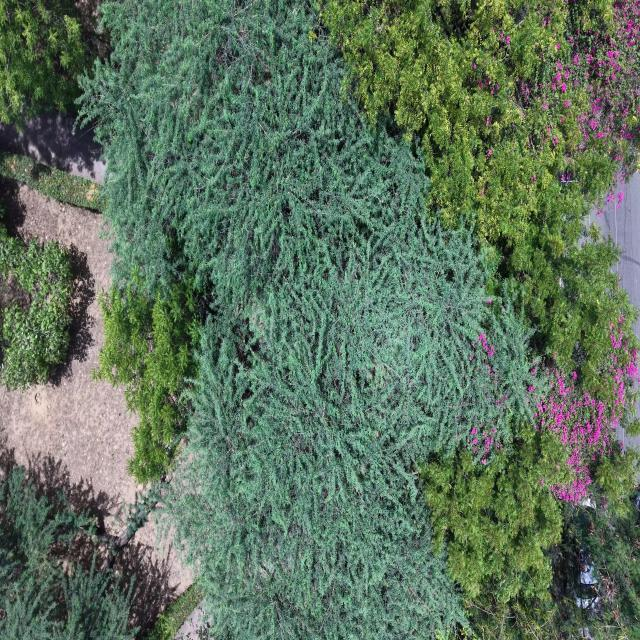DRY_AREA: (0, 179, 141, 533), (0, 112, 105, 183), (0, 113, 105, 183), (587, 172, 639, 307)
PATHWAYS: (589, 173, 639, 308), (589, 173, 639, 307)
VEGETATION_TREE: (80, 0, 638, 639), (84, 3, 529, 638), (320, 0, 639, 503), (171, 209, 526, 638), (321, 0, 639, 392), (322, 0, 639, 248), (423, 318, 638, 637), (423, 430, 639, 639), (469, 484, 639, 639), (423, 427, 568, 608), (0, 468, 137, 639), (94, 282, 199, 483), (529, 224, 638, 406), (536, 326, 639, 502), (553, 492, 639, 639), (0, 224, 73, 389), (0, 0, 90, 125), (0, 151, 105, 212), (99, 479, 166, 570), (146, 584, 203, 639)
